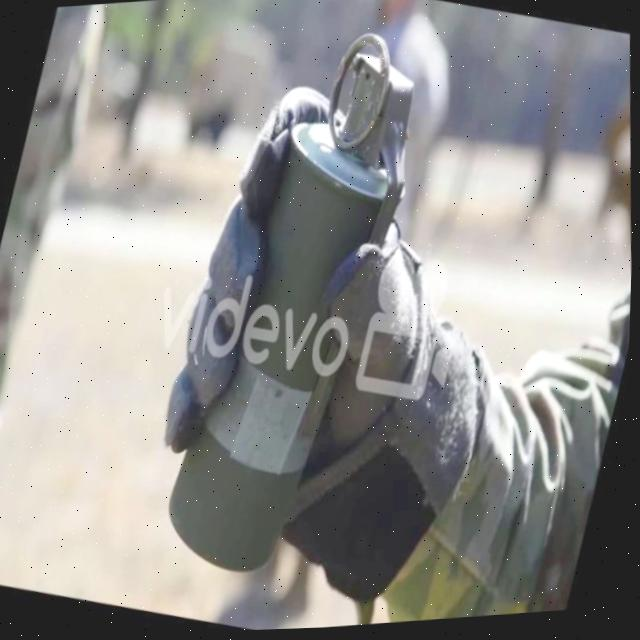grenade: (129, 5, 463, 608)
